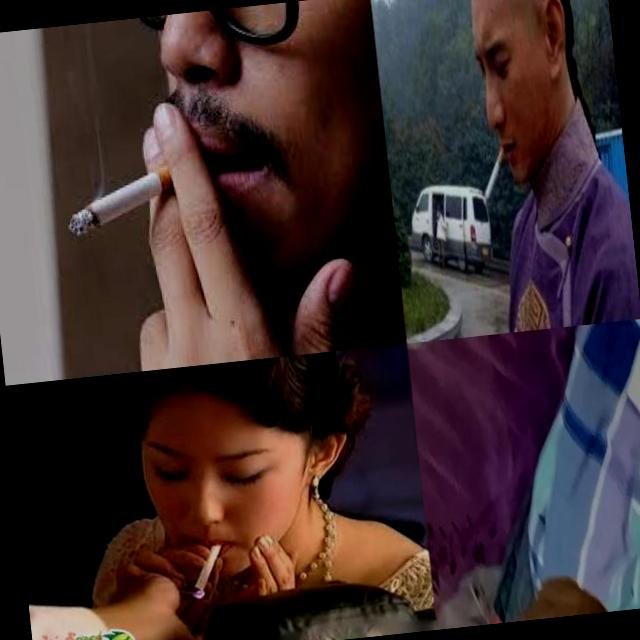cigarette: (60, 152, 207, 238), (476, 142, 511, 208), (187, 541, 228, 594)
